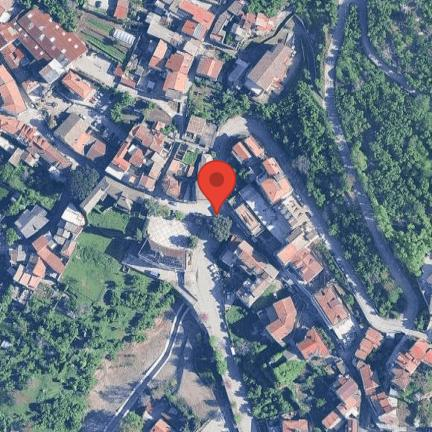area_open: (75, 302, 182, 430), (147, 315, 220, 425), (134, 234, 218, 308), (21, 91, 125, 146), (143, 218, 190, 244), (241, 42, 266, 65), (141, 71, 166, 91), (138, 37, 154, 59)
built: (0, 0, 115, 88), (8, 206, 91, 290), (162, 0, 214, 112), (106, 121, 171, 192), (0, 112, 70, 176), (357, 333, 402, 432), (274, 197, 324, 281), (222, 241, 281, 309), (212, 1, 287, 51), (146, 1, 193, 70), (322, 361, 366, 430), (237, 184, 288, 242), (53, 112, 107, 160), (84, 177, 155, 213), (246, 42, 295, 94), (313, 285, 355, 340), (391, 338, 432, 389), (160, 143, 193, 197), (268, 297, 299, 347), (258, 159, 293, 202), (138, 238, 186, 269), (0, 66, 26, 111), (184, 116, 222, 146), (298, 329, 331, 360), (195, 156, 216, 204), (15, 208, 48, 237), (62, 73, 96, 100), (234, 204, 262, 236), (116, 58, 145, 87), (196, 56, 224, 80), (0, 137, 16, 167), (232, 142, 252, 163), (245, 135, 264, 156), (344, 409, 361, 432), (146, 419, 175, 432), (0, 114, 15, 137), (84, 0, 108, 14), (115, 29, 136, 45), (20, 76, 38, 93), (231, 61, 247, 80), (17, 150, 37, 165), (284, 420, 309, 431), (114, 0, 130, 17), (15, 137, 29, 151), (368, 329, 383, 336), (368, 329, 368, 334)
vegetation_high: (335, 4, 432, 278), (365, 0, 432, 91)
vegetation_low: (191, 2, 408, 321), (0, 207, 177, 432), (216, 262, 334, 432), (0, 164, 105, 286), (25, 0, 143, 61), (140, 197, 232, 245), (199, 326, 239, 430), (266, 49, 302, 104), (402, 369, 432, 432), (113, 94, 170, 123)
